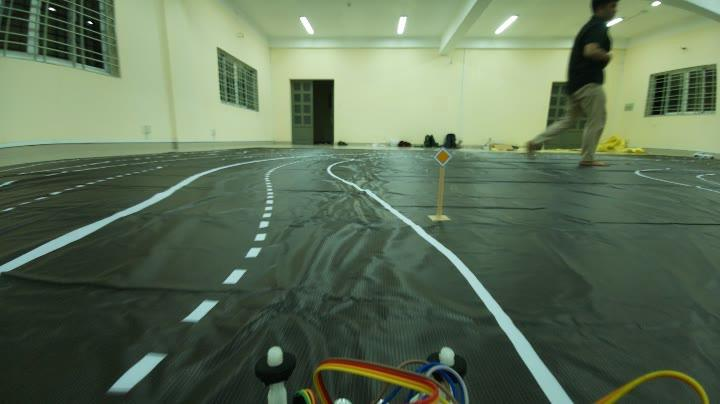priority: (432, 146, 454, 169)
